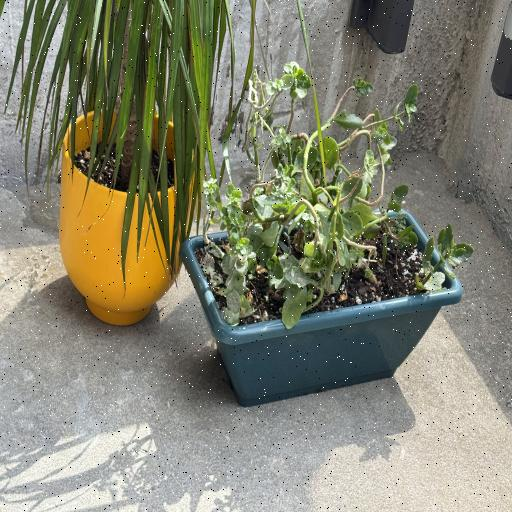Plant Pot: (58, 106, 196, 326)
